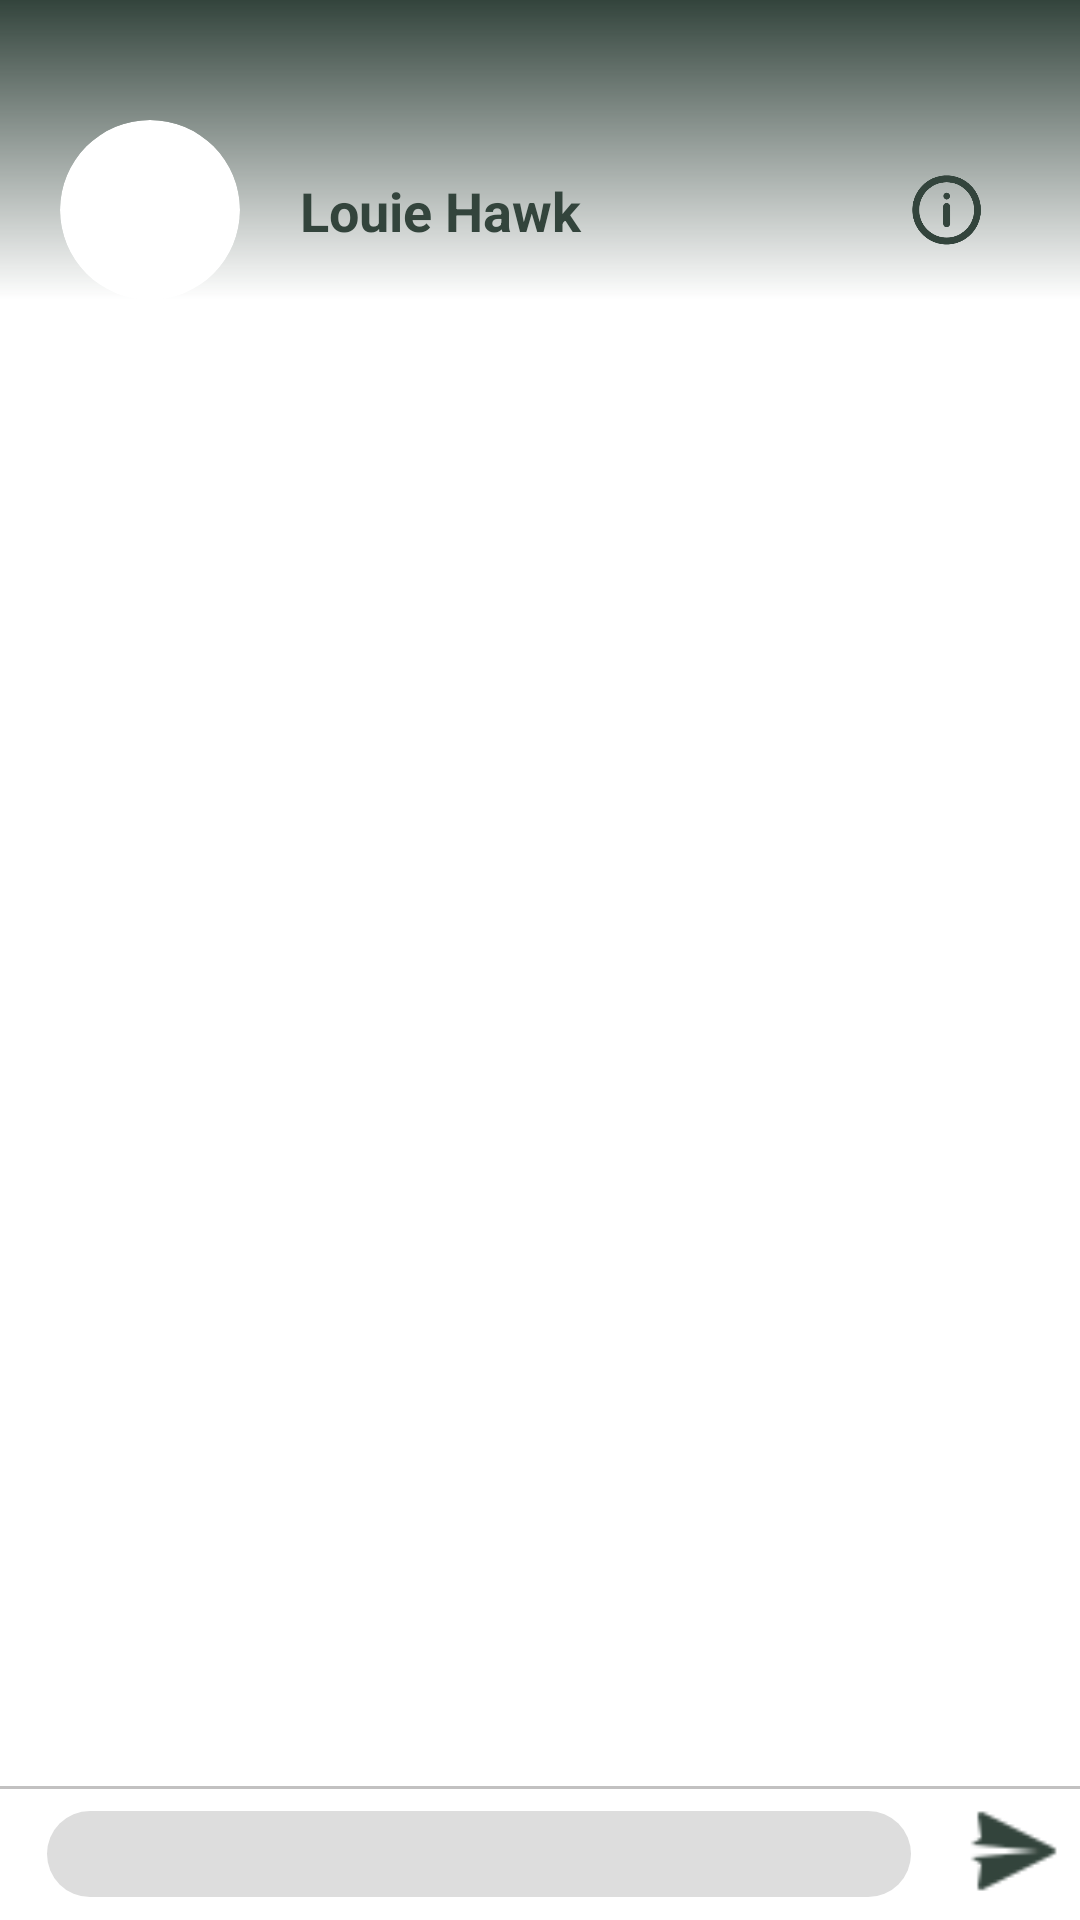

Where to tap for icons on this 1080 x 1920 app screen, as point (x, y):
sendgreen: point (1014, 1851)
